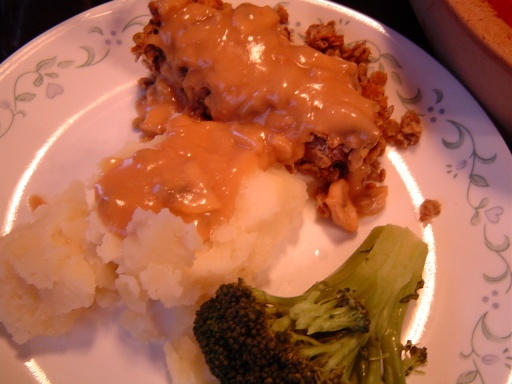background: (0, 0, 344, 230)
